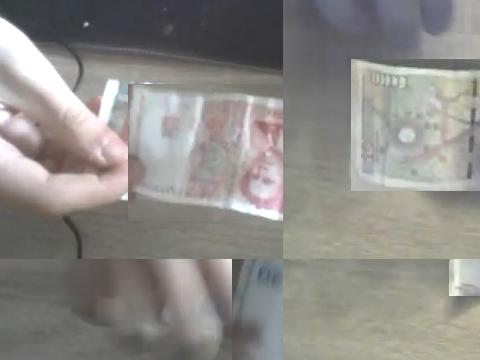10leva: (351, 59, 480, 191)
20leva: (232, 259, 283, 360)
5leva: (128, 84, 283, 219)
